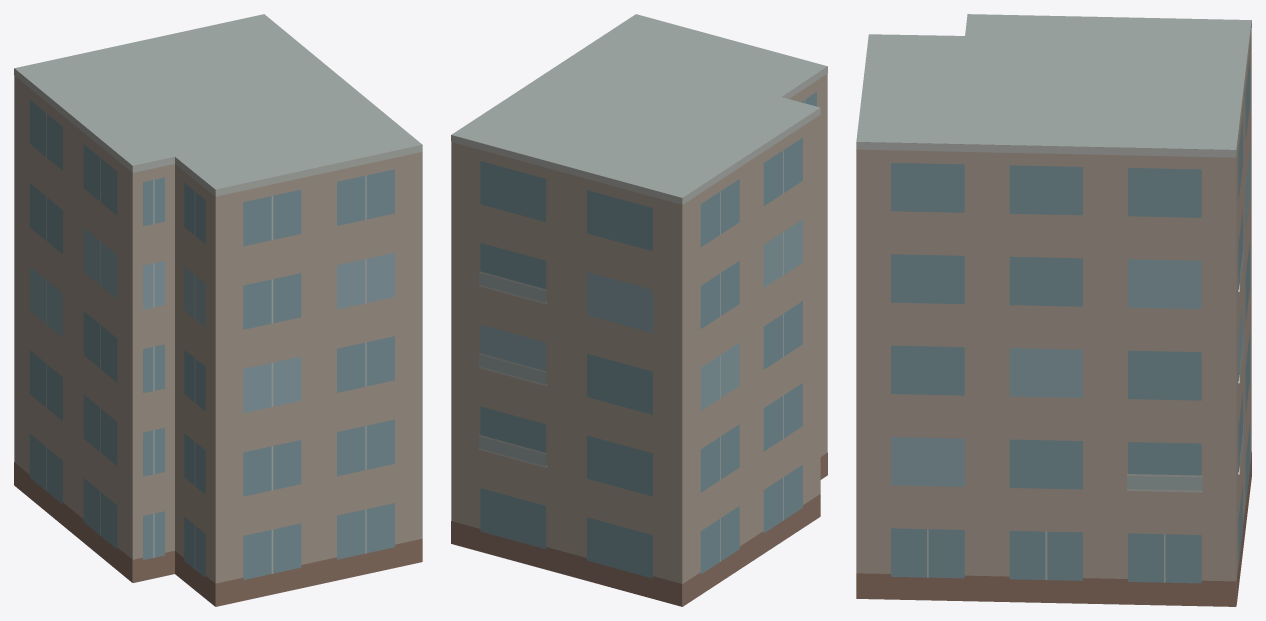
File: survey-upis-32891854.glb
3 renders of one model, left to right at view 1: azimuth 30°, elevation 25°; view 2: azimuth 150°, elevation 25°; view 3: azimuth 270°, elevation 25°, orthographic. The views are drawn at different scales.
Parts seen in each view (by area): view 1: survey-upis-32891854.tmp; view 2: survey-upis-32891854.tmp; view 3: survey-upis-32891854.tmp.
Boxes of the visible parts, x1=… form: survey-upis-32891854.tmp: x1=14, y1=14, x2=422, y2=606; survey-upis-32891854.tmp: x1=451, y1=14, x2=827, y2=606; survey-upis-32891854.tmp: x1=856, y1=14, x2=1251, y2=606.
Size of the model in its own units: 9.2 by 14.4 by 11.3.
